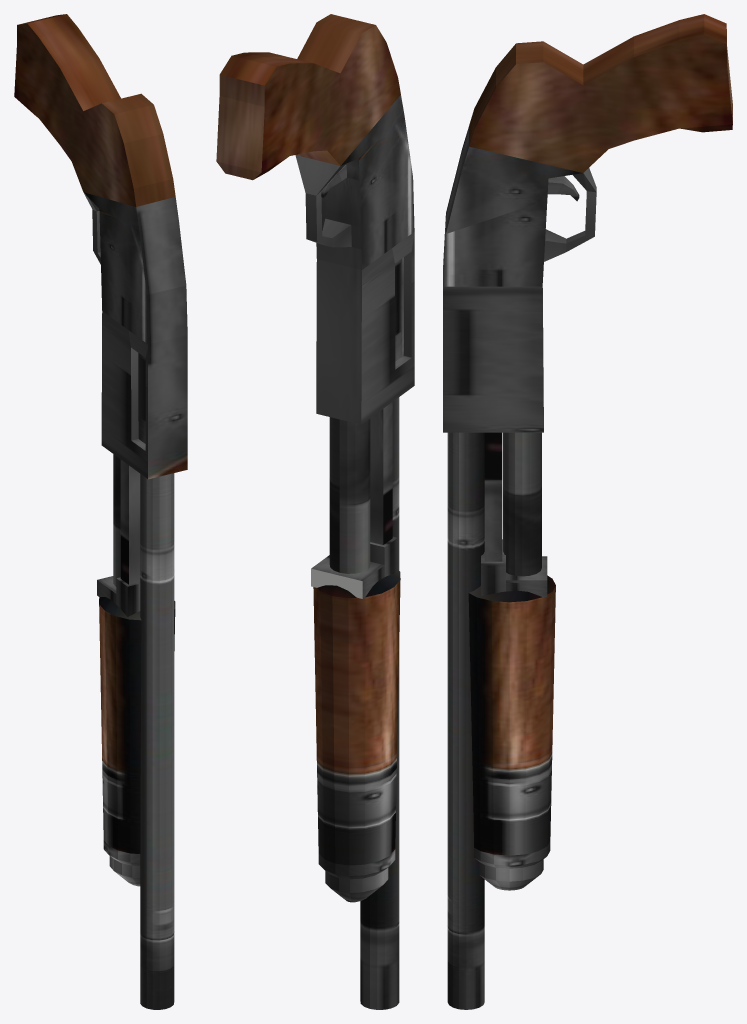
Rendered from shotgun626A_wtf.obj.
The picture shows the model from 3 angles, left to right: view 1: azimuth 30°, elevation 25°; view 2: azimuth 150°, elevation 25°; view 3: azimuth 270°, elevation 25°; orthographic projection. The views are drawn at different scales.
Parts seen in each view (by area): view 1: group6, group10, group13; view 2: group6, group13, group10, group7; view 3: group6, group13, group10.
Part boxes in pixels (x1,y1,x2,y2): group6: [14, 14, 187, 616]; group10: [140, 473, 174, 1009]; group13: [99, 454, 175, 886]; group6: [216, 14, 414, 598]; group13: [313, 417, 400, 902]; group10: [360, 397, 399, 1009]; group7: [311, 568, 362, 598]; group6: [443, 14, 732, 596]; group13: [468, 432, 555, 890]; group10: [447, 432, 484, 1009].
Bounding box in the file's own units: 49.52 × 660 × 177.
